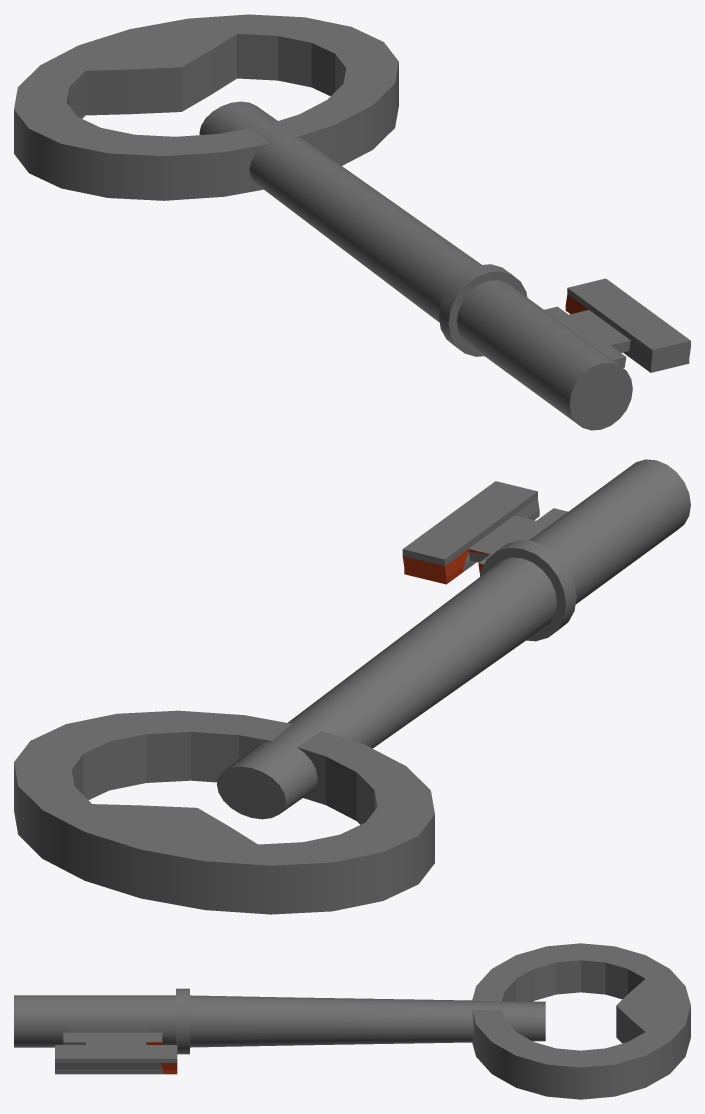
The model's file is Key.fbx.
The picture shows the model from 3 angles, top to bottom: view 1: azimuth 30°, elevation 25°; view 2: azimuth 150°, elevation 25°; view 3: azimuth 270°, elevation 25°; orthographic projection. The views are drawn at different scales.
Visible parts, largest first — view 1: pCylinder17; view 2: pCylinder17; view 3: pCylinder17.
Part boxes in pixels (left/top/right/bottom): pCylinder17: left=14, top=14, right=690, bottom=430; pCylinder17: left=14, top=459, right=690, bottom=914; pCylinder17: left=14, top=943, right=690, bottom=1099.
Bounding box in the file's own units: 1.17 × 0.2644 × 2.7.
